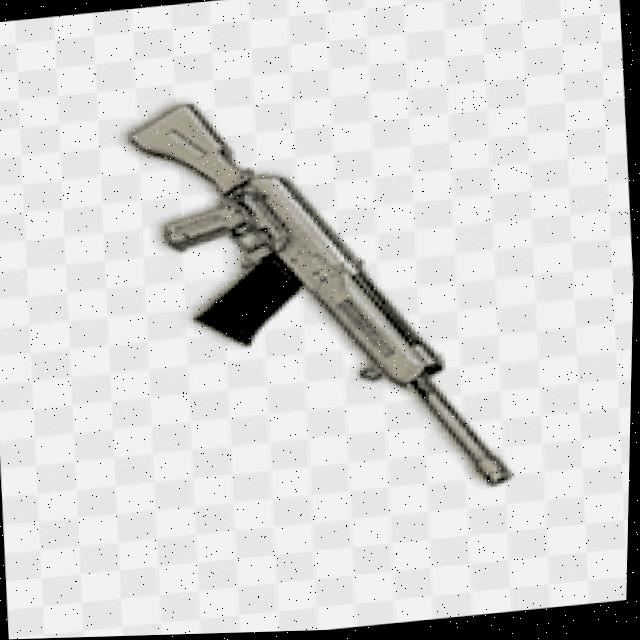firearm: (122, 75, 522, 522)
